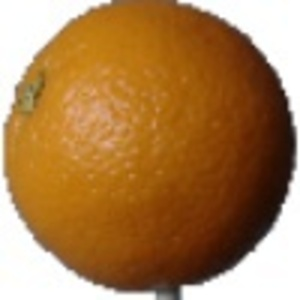laranja: (4, 3, 295, 300)
